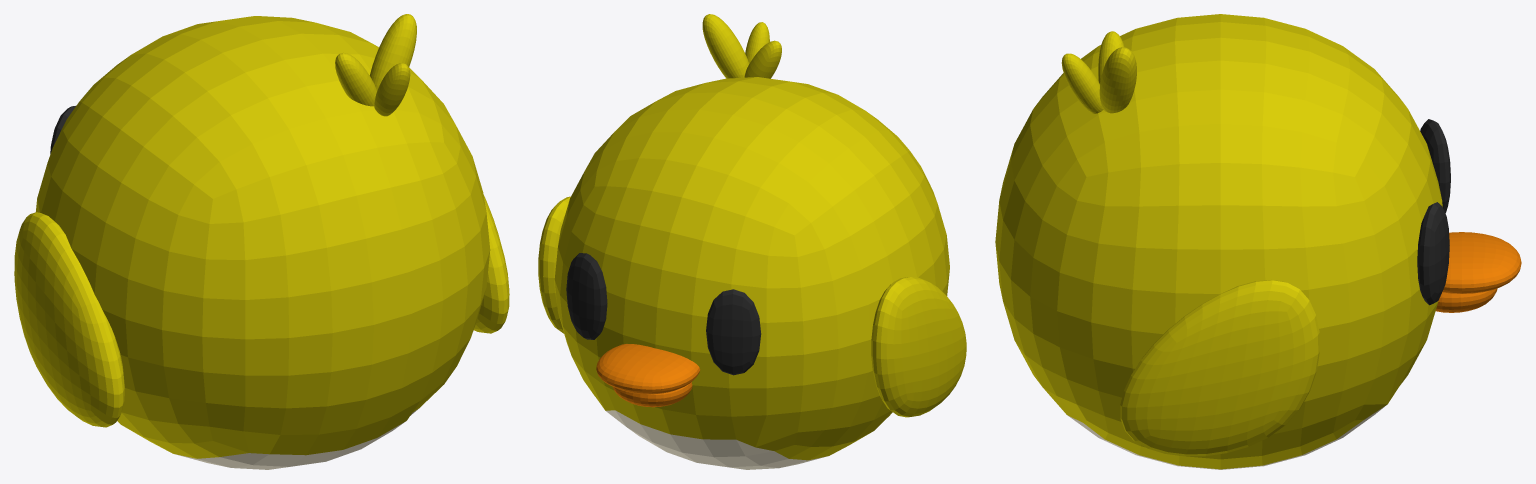
Rendered from Passaro.fbx.
3 views of the same model, side by side, from view 1: azimuth 30°, elevation 25°; view 2: azimuth 150°, elevation 25°; view 3: azimuth 270°, elevation 25° (orthographic). The views are drawn at different scales.
Parts seen in each view (by area): view 1: Cube.002; view 2: Cube.002; view 3: Cube.002.
Boxes of the visible parts, box(x1,y1,x2,y2) form: Cube.002: box(14, 14, 509, 469); Cube.002: box(538, 14, 966, 469); Cube.002: box(995, 14, 1521, 469).
Size of the model in its own units: 186 by 183 by 196.
